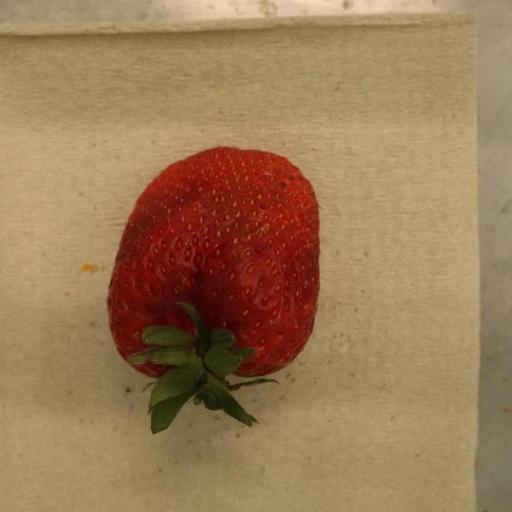Strawberry: (107, 148, 320, 435)
